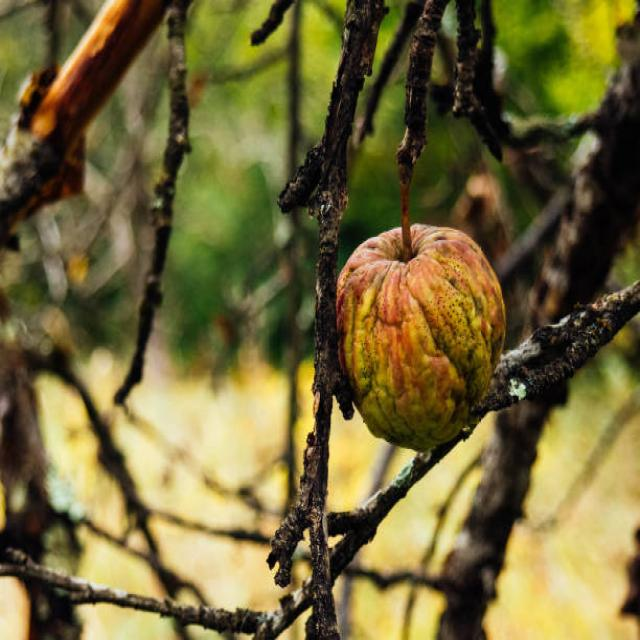overripe: (332, 218, 509, 448)
